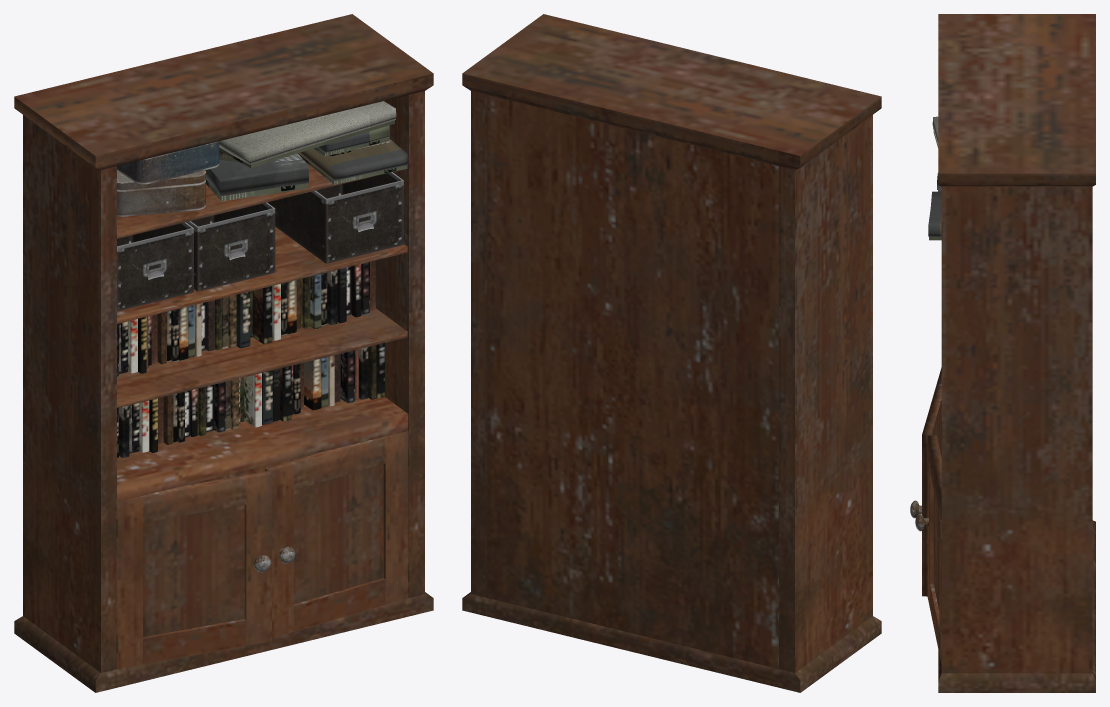
Rendered from sm39_069_shelfset01a.fbx.
The picture shows the model from 3 angles, left to right: view 1: azimuth 30°, elevation 25°; view 2: azimuth 150°, elevation 25°; view 3: azimuth 270°, elevation 25°; orthographic projection. The views are drawn at different scales.
Parts seen in each view (by area): view 1: LOD_1_Group_0_Sub_4__sm30_099_SlideShelf01A_C_Mat, LOD_1_Group_0_Sub_3__sm32_039_BoardGame01A_A_Mat, LOD_1_Group_0_Sub_2__sm36_022_Cardboard01A_B_Mat, LOD_1_Group_1_Sub_3__sm36_022_Cardboard01A_B_Mat, LOD_1_Group_3_Sub_2__sm32_035_CanBox01B_B_Mat, LOD_1_Group_2_Sub_3__sm36_022_Cardboard01A_B_Mat, LOD_1_Group_1_Sub_1__sm36_052_Book01A_A_Mat, LOD_1_Group_2_Sub_1__sm36_052_Book01A_A_Mat, LOD_1_Group_2_Sub_2__sm36_052_Book01A_B_Mat, LOD_1_Group_1_Sub_2__sm36_052_Book01A_B_Mat, LOD_1_Group_41_Sub_1__sm36_052_Book01A_B_Mat, LOD_1_Group_23_Sub_1__sm36_052_Book01A_B_Mat (+1 smaller); view 2: LOD_1_Group_0_Sub_4__sm30_099_SlideShelf01A_C_Mat; view 3: LOD_1_Group_0_Sub_4__sm30_099_SlideShelf01A_C_Mat, LOD_1_Group_0_Sub_3__sm32_039_BoardGame01A_A_Mat, LOD_1_Group_1_Sub_4__sm30_099_SlideShelf01A_C_Mat.
Part boxes in pixels (x1=…): LOD_1_Group_0_Sub_4__sm30_099_SlideShelf01A_C_Mat: x1=14, y1=14, x2=433, y2=692; LOD_1_Group_0_Sub_3__sm32_039_BoardGame01A_A_Mat: x1=205, y1=101, x2=408, y2=201; LOD_1_Group_0_Sub_2__sm36_022_Cardboard01A_B_Mat: x1=267, y1=172, x2=403, y2=263; LOD_1_Group_1_Sub_3__sm36_022_Cardboard01A_B_Mat: x1=186, y1=202, x2=275, y2=291; LOD_1_Group_3_Sub_2__sm32_035_CanBox01B_B_Mat: x1=117, y1=141, x2=219, y2=216; LOD_1_Group_2_Sub_3__sm36_022_Cardboard01A_B_Mat: x1=117, y1=222, x2=193, y2=311; LOD_1_Group_1_Sub_1__sm36_052_Book01A_A_Mat: x1=129, y1=262, x2=384, y2=453; LOD_1_Group_2_Sub_1__sm36_052_Book01A_A_Mat: x1=119, y1=366, x2=291, y2=457; LOD_1_Group_2_Sub_2__sm36_052_Book01A_B_Mat: x1=139, y1=349, x2=358, y2=452; LOD_1_Group_1_Sub_2__sm36_052_Book01A_B_Mat: x1=132, y1=284, x2=280, y2=452; LOD_1_Group_41_Sub_1__sm36_052_Book01A_B_Mat: x1=304, y1=358, x2=321, y2=410; LOD_1_Group_23_Sub_1__sm36_052_Book01A_B_Mat: x1=236, y1=291, x2=250, y2=348; LOD_1_Group_0_Sub_4__sm30_099_SlideShelf01A_C_Mat: x1=462, y1=14, x2=881, y2=692; LOD_1_Group_0_Sub_4__sm30_099_SlideShelf01A_C_Mat: x1=922, y1=14, x2=1095, y2=692; LOD_1_Group_0_Sub_3__sm32_039_BoardGame01A_A_Mat: x1=928, y1=116, x2=941, y2=240; LOD_1_Group_1_Sub_4__sm30_099_SlideShelf01A_C_Mat: x1=910, y1=500, x2=928, y2=531.
Bounding box in the file's own units: 1.25 × 1.9 × 0.6156.
